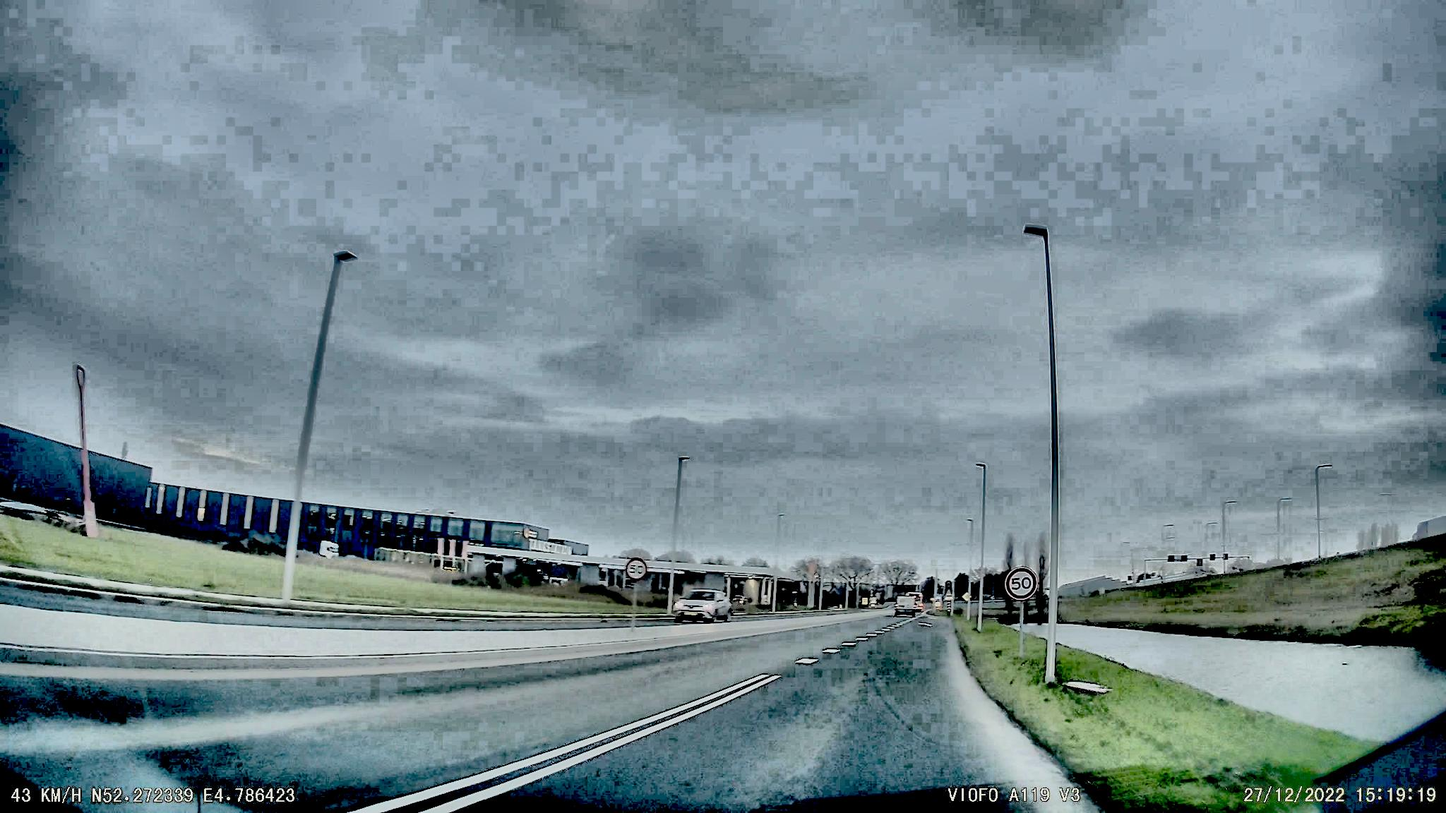Roads: (0, 621, 1107, 813)
